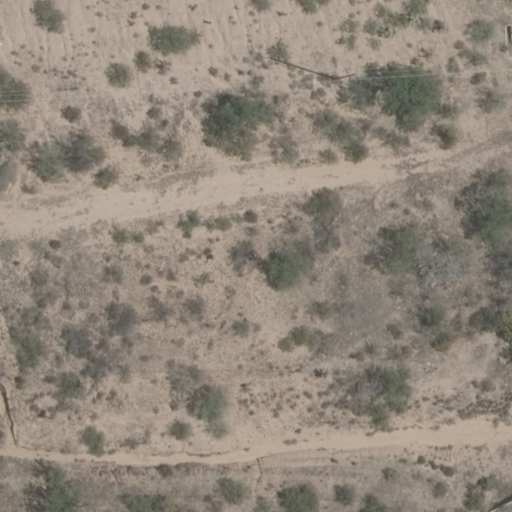DT: (329, 69, 365, 90)
